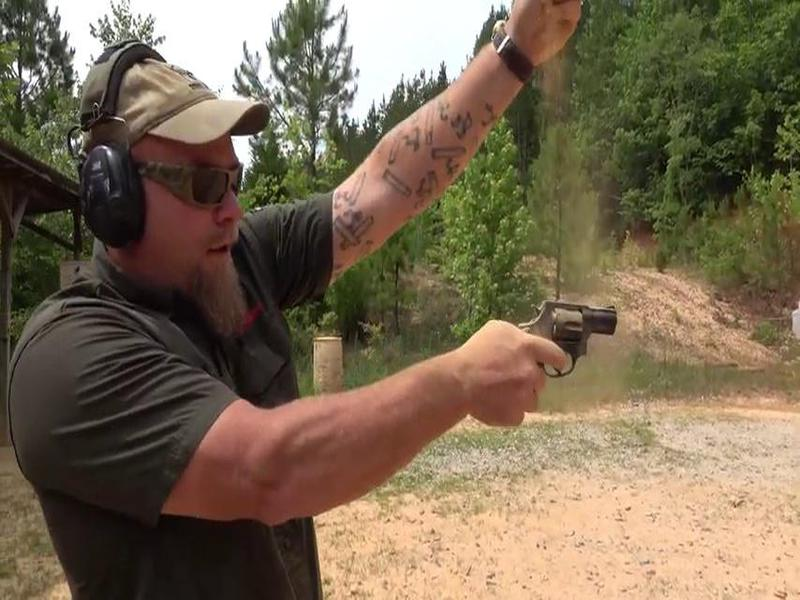Revolver: (467, 273, 644, 427)
